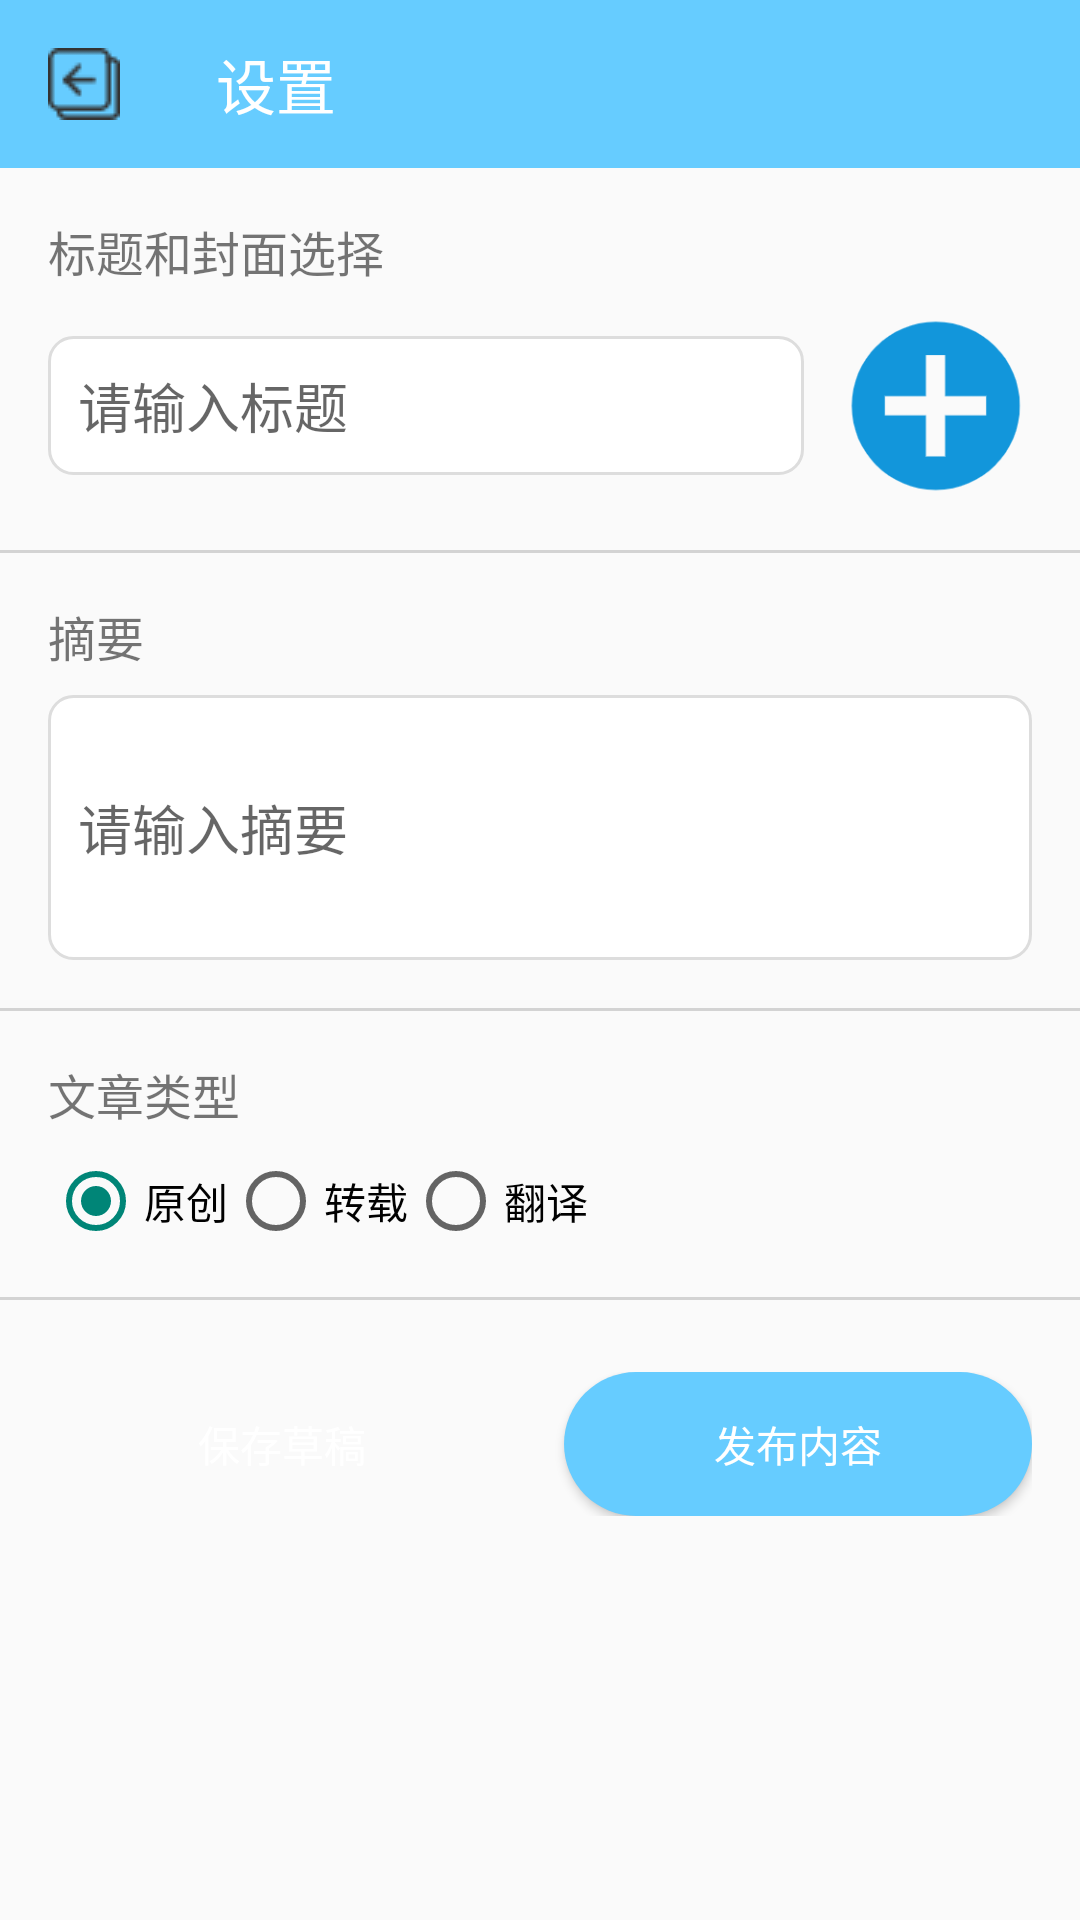

Where icons sit on this 1080px x 1920px app screen, as (x1, y1, x2, y2):
add: (851, 321, 1021, 491)
